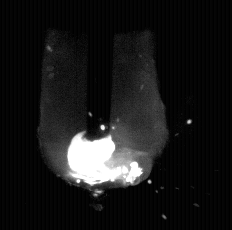arame: (87, 0, 111, 141)
poca: (37, 0, 169, 230)
